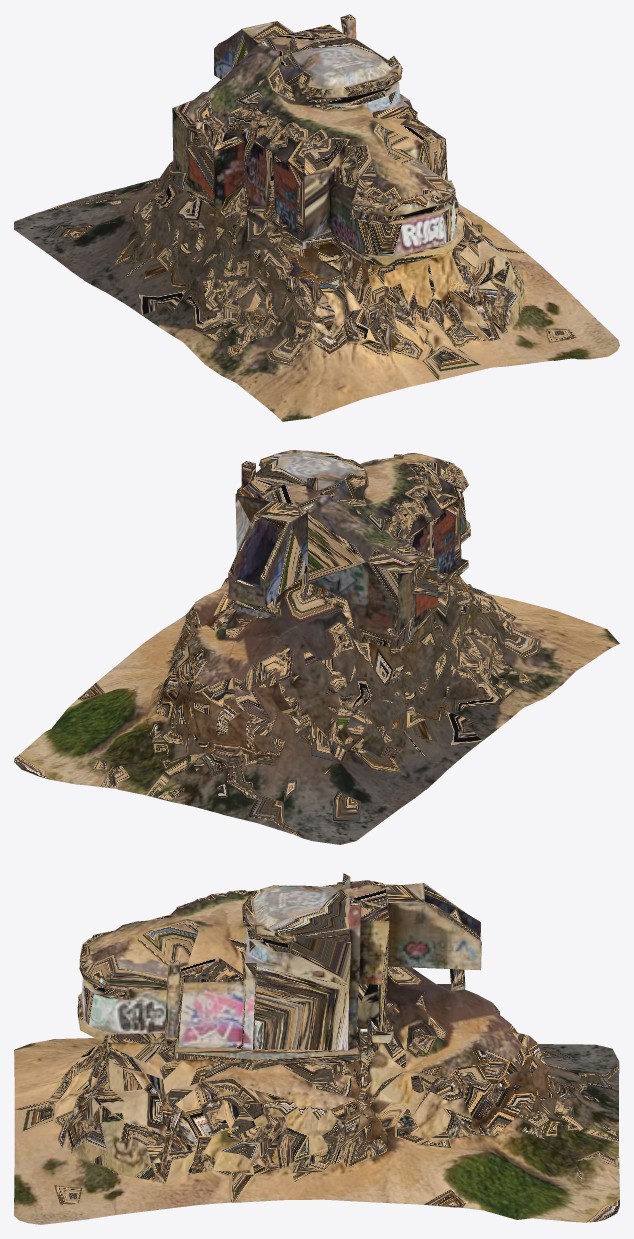
File: coastal-bunker.lod0.glb
3 renders of one model, top to bottom at view 1: azimuth 30°, elevation 25°; view 2: azimuth 150°, elevation 25°; view 3: azimuth 270°, elevation 25°, orthographic. The views are drawn at different scales.
Parts seen in each view (by area): view 1: Object_2; view 2: Object_2; view 3: Object_2.
Part boxes in pixels (x1,y1,x2,y2): Object_2: (14,14,619,421); Object_2: (14,450,619,844); Object_2: (14,873,619,1224).
Size of the model in its own units: 15.27 by 10.49 by 22.
Materials: 1 (1 with a texture image).
